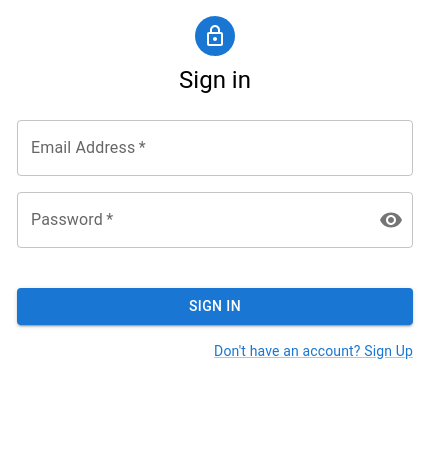
Test case: <SignIn /> › Form validation › When submitting invalid password › When password does not contain mixture of lower & upper cases and numbers › Password is validated & error message is rendered
Type "password" into the password field labelled "Password *".
click(190, 220); type("password")  # box [17, 192, 363, 248]
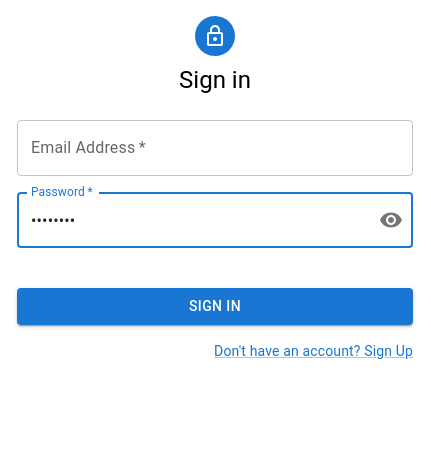
Click the button "Sign In".
click(215, 306)  # box [17, 288, 413, 324]
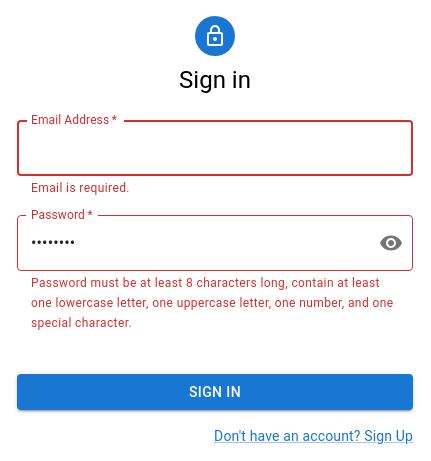
Check: the text "Password must be at least 8 characters long, contain at least one lowercase letter, one uppercase letter, one number, an" is shown, box [31, 276, 394, 330]
